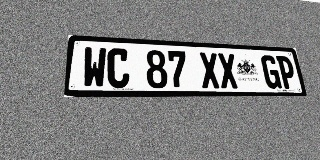7: (166, 51, 188, 88)
8: (146, 50, 168, 88)
C: (107, 48, 129, 88)
G: (260, 55, 282, 89)
P: (276, 56, 298, 89)
W: (82, 47, 107, 88)
X: (199, 52, 221, 88), (217, 53, 239, 89)
